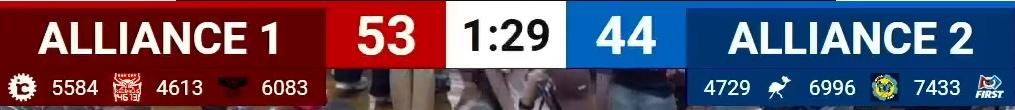blue_score: (591, 13, 656, 56)
red_score: (355, 14, 415, 57)
team_number: (808, 78, 858, 97), (702, 78, 752, 97), (260, 78, 310, 97), (912, 78, 963, 96), (155, 79, 203, 97), (52, 79, 98, 96)
timer: (465, 17, 554, 53)
